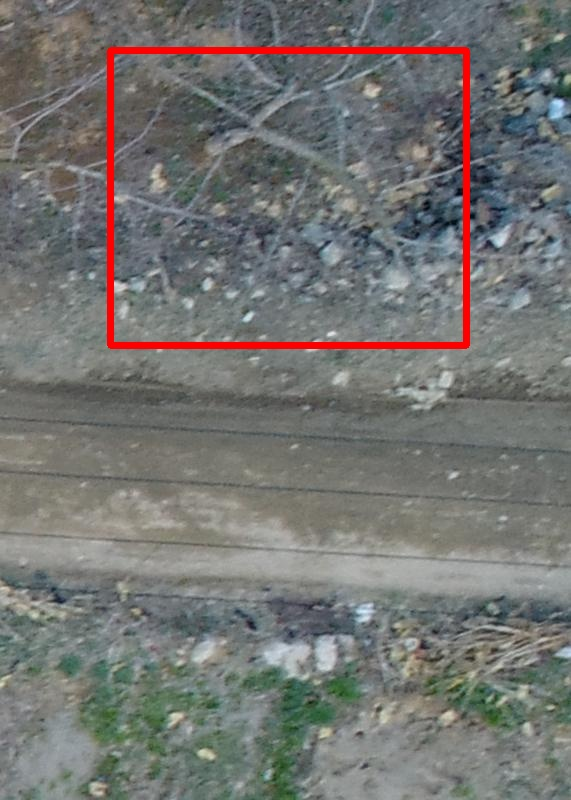apple: (110, 50, 466, 345)
